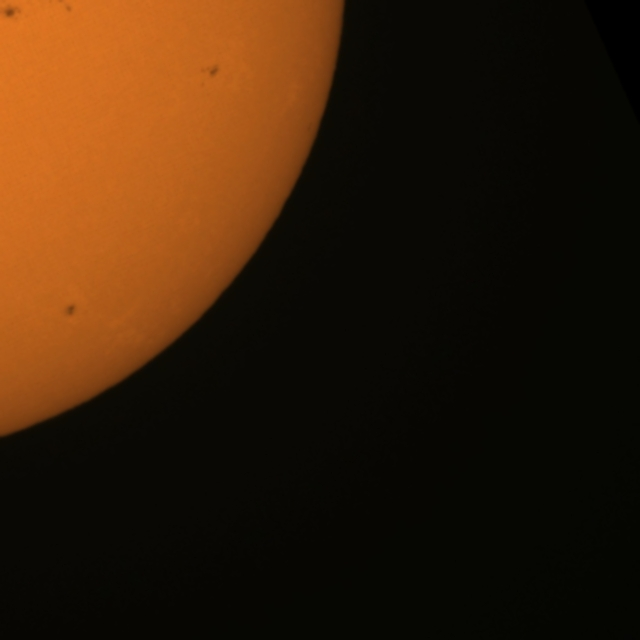sunspot: (0, 1, 23, 21), (198, 63, 221, 80), (47, 0, 74, 14), (63, 302, 78, 319), (64, 3, 74, 14)
